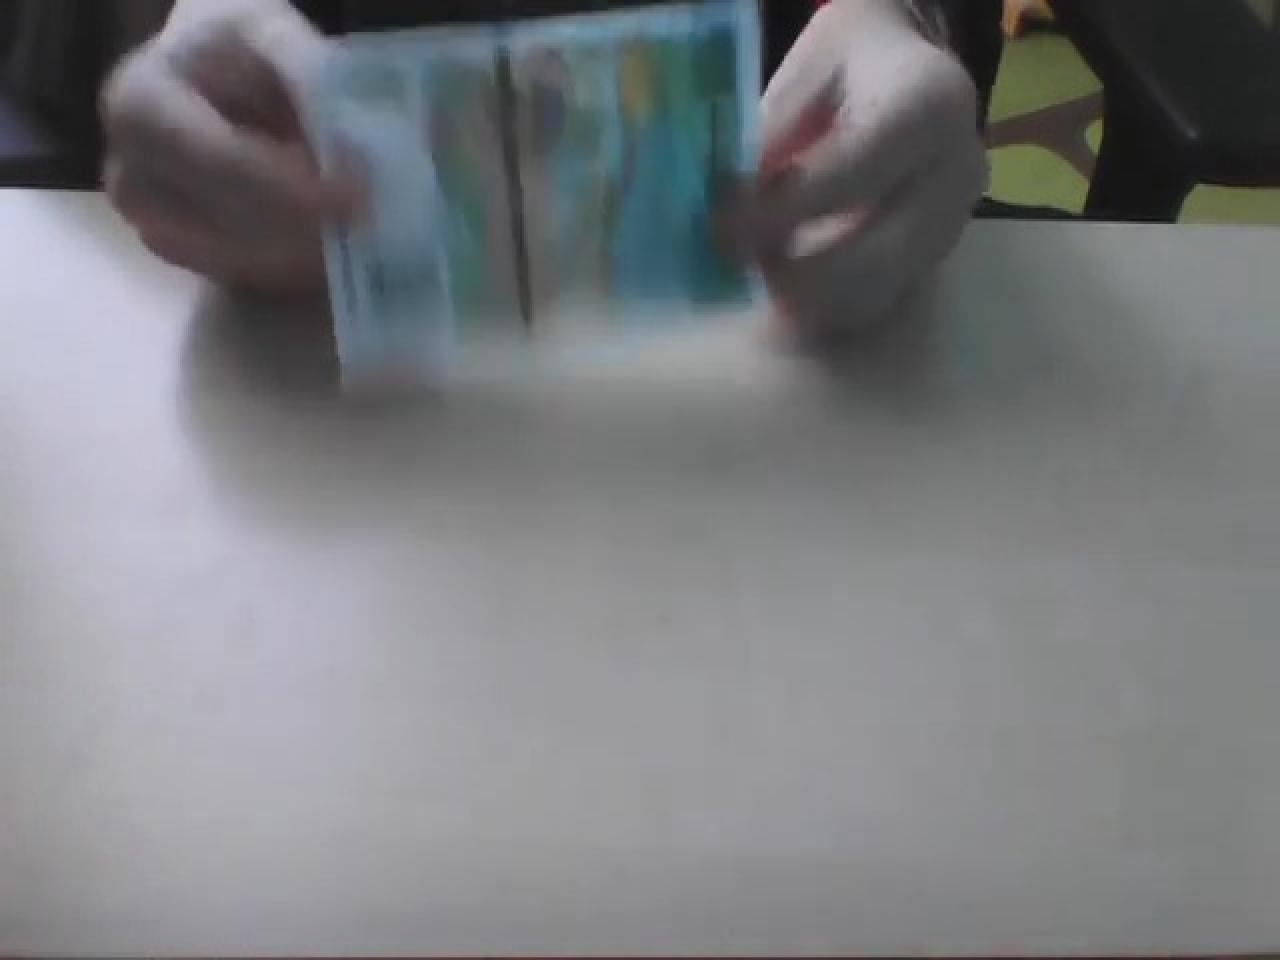100leva: (306, 0, 766, 397)
